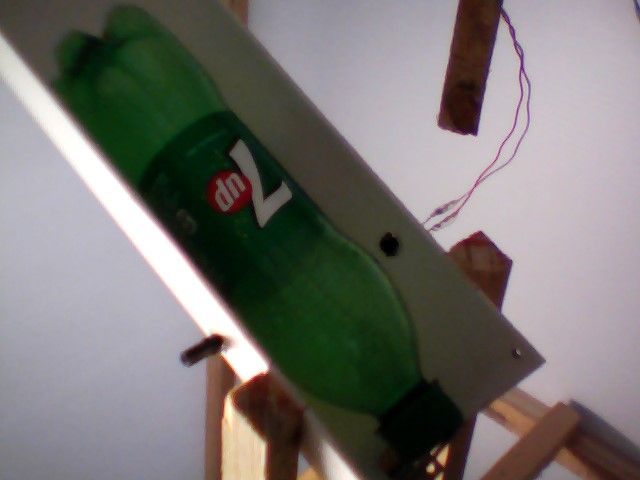plastico: (47, 1, 471, 479)
